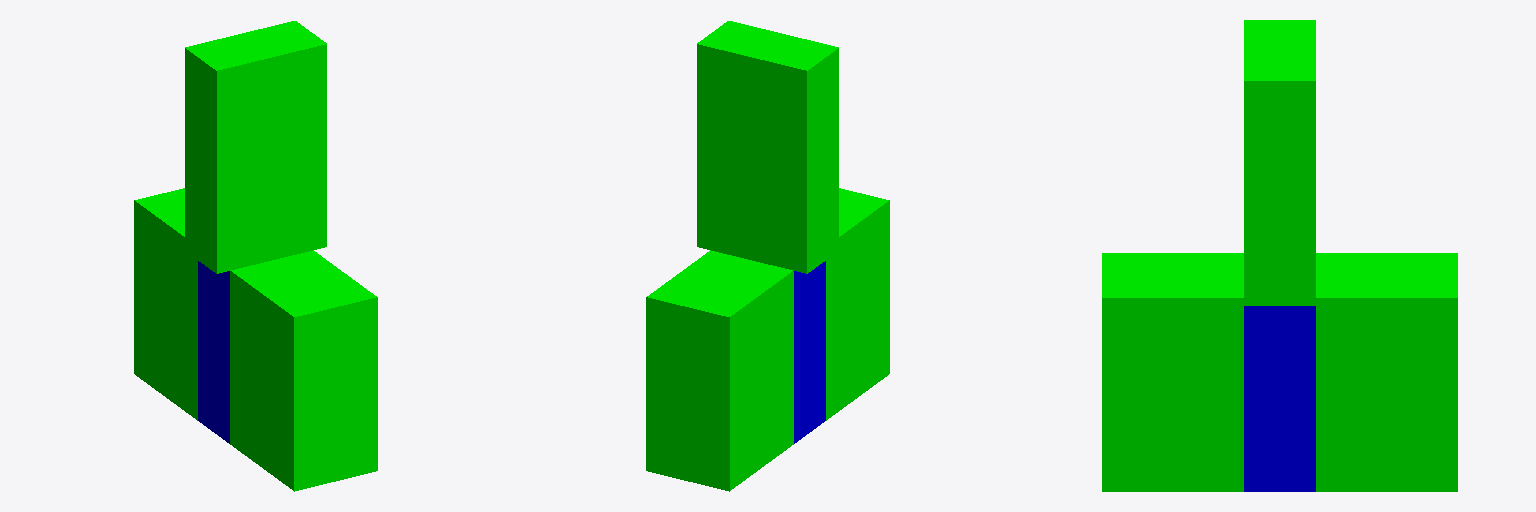
robot.urdf — robot:
<robot name = "robot">
    <link name="root">
        <inertial>
            <origin xyz="0.0 0.0 1.5" rpy="0 0 0"/>
            <mass value="1" />
            <inertia ixx="100" ixy="0" ixz="0" iyy="100" iyz="0" izz="100" />
        </inertial>
        <visual>
            <origin xyz="0.0 0.0 1.5" rpy="0 0 0"/>
            <geometry>
                <box size="0 0 0.0001" />
            </geometry>
            <material name="Green">
                <color rgba="0 1.0 0.0 1.0"/>
            </material>
        </visual>
        <collision>
            <origin xyz="0.0 0.0 1.5" rpy="0 0 0"/>
            <geometry>
                <box size="0 0 0.0001" />
            </geometry>
        </collision>
    </link>
    <joint name="root_000" type="revolute">
       <parent link="root"/>
       <child  link="000"/>
       <origin rpy="0 0 0" xyz="0.0 0.0 1.5" />
     <axis xyz="1 0 0"/>
       <limit effort="0.0" lower="-3.14159" upper="3.14159" velocity="0.0"/>
    </joint>
    <link name="000">
        <inertial>
            <origin xyz="0.2 0.0 0.0" rpy="0 0 0"/>
            <mass value="1" />
            <inertia ixx="100" ixy="0" ixz="0" iyy="100" iyz="0" izz="100" />
        </inertial>
        <visual>
            <origin xyz="0.2 0.0 0.0" rpy="0 0 0"/>
            <geometry>
                <box size="0.4 0.2 0.7" />
            </geometry>
            <material name="Green">
                <color rgba="0 1.0 0.0 1.0"/>
            </material>
        </visual>
        <collision>
            <origin xyz="0.2 0.0 0.0" rpy="0 0 0"/>
            <geometry>
                <box size="0.4 0.2 0.7" />
            </geometry>
        </collision>
    </link>
    <joint name="000_000-100" type="revolute">
       <parent link="000"/>
       <child  link="000-100"/>
       <origin rpy="0 0 0" xyz="0.2 0.0 -0.35" />
     <axis xyz="0 0 1"/>
       <limit effort="0.0" lower="-3.14159" upper="3.14159" velocity="0.0"/>
    </joint>
    <link name="000-100">
        <inertial>
            <origin xyz="0.0 0.0 -0.15" rpy="0 0 0"/>
            <mass value="1" />
            <inertia ixx="100" ixy="0" ixz="0" iyy="100" iyz="0" izz="100" />
        </inertial>
        <visual>
            <origin xyz="0.0 0.0 -0.15" rpy="0 0 0"/>
            <geometry>
                <box size="0.3 0.2 0.3" />
            </geometry>
            <material name="Blue">
                <color rgba="0 0.0 1.0 1.0"/>
            </material>
        </visual>
        <collision>
            <origin xyz="0.0 0.0 -0.15" rpy="0 0 0"/>
            <geometry>
                <box size="0.3 0.2 0.3" />
            </geometry>
        </collision>
    </link>
    <joint name="000-100_000-110" type="revolute">
       <parent link="000-100"/>
       <child  link="000-110"/>
       <origin rpy="0 0 0" xyz="0.0 0.0 -0.3" />
     <axis xyz="0 0 1"/>
       <limit effort="0.0" lower="-3.14159" upper="3.14159" velocity="0.0"/>
    </joint>
    <link name="000-110">
        <inertial>
            <origin xyz="0.0 0.0 -0.15" rpy="0 0 0"/>
            <mass value="1" />
            <inertia ixx="100" ixy="0" ixz="0" iyy="100" iyz="0" izz="100" />
        </inertial>
        <visual>
            <origin xyz="0.0 0.0 -0.15" rpy="0 0 0"/>
            <geometry>
                <box size="0.3 0.2 0.3" />
            </geometry>
            <material name="Blue">
                <color rgba="0 0.0 1.0 1.0"/>
            </material>
        </visual>
        <collision>
            <origin xyz="0.0 0.0 -0.15" rpy="0 0 0"/>
            <geometry>
                <box size="0.3 0.2 0.3" />
            </geometry>
        </collision>
    </link>
    <joint name="000-110_000-110-200" type="revolute">
       <parent link="000-110"/>
       <child  link="000-110-200"/>
       <origin rpy="0 0 0" xyz="0.0 0.1 -0.15" />
     <axis xyz="0 1 0"/>
       <limit effort="0.0" lower="-3.14159" upper="3.14159" velocity="0.0"/>
    </joint>
    <link name="000-110-200">
        <inertial>
            <origin xyz="0.0 0.1 -0.0" rpy="0 0 0"/>
            <mass value="1" />
            <inertia ixx="100" ixy="0" ixz="0" iyy="100" iyz="0" izz="100" />
        </inertial>
        <visual>
            <origin xyz="0.0 0.1 -0.0" rpy="0 0 0"/>
            <geometry>
                <box size="0.3 0.2 0.3" />
            </geometry>
            <material name="Green">
                <color rgba="0 1.0 0.0 1.0"/>
            </material>
        </visual>
        <collision>
            <origin xyz="0.0 0.1 -0.0" rpy="0 0 0"/>
            <geometry>
                <box size="0.3 0.2 0.3" />
            </geometry>
        </collision>
    </link>
    <joint name="000-110-200_000-110-210" type="revolute">
       <parent link="000-110-200"/>
       <child  link="000-110-210"/>
       <origin rpy="0 0 0" xyz="0.0 0.2 -0.0" />
     <axis xyz="0 1 0"/>
       <limit effort="0.0" lower="-3.14159" upper="3.14159" velocity="0.0"/>
    </joint>
    <link name="000-110-210">
        <inertial>
            <origin xyz="0.0 0.1 -0.0" rpy="0 0 0"/>
            <mass value="1" />
            <inertia ixx="100" ixy="0" ixz="0" iyy="100" iyz="0" izz="100" />
        </inertial>
        <visual>
            <origin xyz="0.0 0.1 -0.0" rpy="0 0 0"/>
            <geometry>
                <box size="0.3 0.2 0.3" />
            </geometry>
            <material name="Green">
                <color rgba="0 1.0 0.0 1.0"/>
            </material>
        </visual>
        <collision>
            <origin xyz="0.0 0.1 -0.0" rpy="0 0 0"/>
            <geometry>
                <box size="0.3 0.2 0.3" />
            </geometry>
        </collision>
    </link>
    <joint name="000-110_000-110-201" type="revolute">
       <parent link="000-110"/>
       <child  link="000-110-201"/>
       <origin rpy="0 0 0" xyz="0.0 -0.1 -0.15" />
     <axis xyz="0 1 0"/>
       <limit effort="0.0" lower="-3.14159" upper="3.14159" velocity="0.0"/>
    </joint>
    <link name="000-110-201">
        <inertial>
            <origin xyz="0.0 -0.1 -0.0" rpy="0 0 0"/>
            <mass value="1" />
            <inertia ixx="100" ixy="0" ixz="0" iyy="100" iyz="0" izz="100" />
        </inertial>
        <visual>
            <origin xyz="0.0 -0.1 -0.0" rpy="0 0 0"/>
            <geometry>
                <box size="0.3 0.2 0.3" />
            </geometry>
            <material name="Green">
                <color rgba="0 1.0 0.0 1.0"/>
            </material>
        </visual>
        <collision>
            <origin xyz="0.0 -0.1 -0.0" rpy="0 0 0"/>
            <geometry>
                <box size="0.3 0.2 0.3" />
            </geometry>
        </collision>
    </link>
    <joint name="000-110-201_000-110-211" type="revolute">
       <parent link="000-110-201"/>
       <child  link="000-110-211"/>
       <origin rpy="0 0 0" xyz="0.0 -0.2 -0.0" />
     <axis xyz="0 1 0"/>
       <limit effort="0.0" lower="-3.14159" upper="3.14159" velocity="0.0"/>
    </joint>
    <link name="000-110-211">
        <inertial>
            <origin xyz="0.0 -0.1 -0.0" rpy="0 0 0"/>
            <mass value="1" />
            <inertia ixx="100" ixy="0" ixz="0" iyy="100" iyz="0" izz="100" />
        </inertial>
        <visual>
            <origin xyz="0.0 -0.1 -0.0" rpy="0 0 0"/>
            <geometry>
                <box size="0.3 0.2 0.3" />
            </geometry>
            <material name="Green">
                <color rgba="0 1.0 0.0 1.0"/>
            </material>
        </visual>
        <collision>
            <origin xyz="0.0 -0.1 -0.0" rpy="0 0 0"/>
            <geometry>
                <box size="0.3 0.2 0.3" />
            </geometry>
        </collision>
    </link>
    <joint name="000-100_000-100-200" type="revolute">
       <parent link="000-100"/>
       <child  link="000-100-200"/>
       <origin rpy="0 0 0" xyz="0.0 0.1 -0.15" />
     <axis xyz="0 1 0"/>
       <limit effort="0.0" lower="-3.14159" upper="3.14159" velocity="0.0"/>
    </joint>
    <link name="000-100-200">
        <inertial>
            <origin xyz="0.0 0.1 -0.0" rpy="0 0 0"/>
            <mass value="1" />
            <inertia ixx="100" ixy="0" ixz="0" iyy="100" iyz="0" izz="100" />
        </inertial>
        <visual>
            <origin xyz="0.0 0.1 -0.0" rpy="0 0 0"/>
            <geometry>
                <box size="0.3 0.2 0.3" />
            </geometry>
            <material name="Green">
                <color rgba="0 1.0 0.0 1.0"/>
            </material>
        </visual>
        <collision>
            <origin xyz="0.0 0.1 -0.0" rpy="0 0 0"/>
            <geometry>
                <box size="0.3 0.2 0.3" />
            </geometry>
        </collision>
    </link>
    <joint name="000-100-200_000-100-210" type="revolute">
       <parent link="000-100-200"/>
       <child  link="000-100-210"/>
       <origin rpy="0 0 0" xyz="0.0 0.2 -0.0" />
     <axis xyz="0 1 0"/>
       <limit effort="0.0" lower="-3.14159" upper="3.14159" velocity="0.0"/>
    </joint>
    <link name="000-100-210">
        <inertial>
            <origin xyz="0.0 0.1 -0.0" rpy="0 0 0"/>
            <mass value="1" />
            <inertia ixx="100" ixy="0" ixz="0" iyy="100" iyz="0" izz="100" />
        </inertial>
        <visual>
            <origin xyz="0.0 0.1 -0.0" rpy="0 0 0"/>
            <geometry>
                <box size="0.3 0.2 0.3" />
            </geometry>
            <material name="Green">
                <color rgba="0 1.0 0.0 1.0"/>
            </material>
        </visual>
        <collision>
            <origin xyz="0.0 0.1 -0.0" rpy="0 0 0"/>
            <geometry>
                <box size="0.3 0.2 0.3" />
            </geometry>
        </collision>
    </link>
    <joint name="000-100_000-100-201" type="revolute">
       <parent link="000-100"/>
       <child  link="000-100-201"/>
       <origin rpy="0 0 0" xyz="0.0 -0.1 -0.15" />
     <axis xyz="0 1 0"/>
       <limit effort="0.0" lower="-3.14159" upper="3.14159" velocity="0.0"/>
    </joint>
    <link name="000-100-201">
        <inertial>
            <origin xyz="0.0 -0.1 -0.0" rpy="0 0 0"/>
            <mass value="1" />
            <inertia ixx="100" ixy="0" ixz="0" iyy="100" iyz="0" izz="100" />
        </inertial>
        <visual>
            <origin xyz="0.0 -0.1 -0.0" rpy="0 0 0"/>
            <geometry>
                <box size="0.3 0.2 0.3" />
            </geometry>
            <material name="Green">
                <color rgba="0 1.0 0.0 1.0"/>
            </material>
        </visual>
        <collision>
            <origin xyz="0.0 -0.1 -0.0" rpy="0 0 0"/>
            <geometry>
                <box size="0.3 0.2 0.3" />
            </geometry>
        </collision>
    </link>
    <joint name="000-100-201_000-100-211" type="revolute">
       <parent link="000-100-201"/>
       <child  link="000-100-211"/>
       <origin rpy="0 0 0" xyz="0.0 -0.2 -0.0" />
     <axis xyz="0 1 0"/>
       <limit effort="0.0" lower="-3.14159" upper="3.14159" velocity="0.0"/>
    </joint>
    <link name="000-100-211">
        <inertial>
            <origin xyz="0.0 -0.1 -0.0" rpy="0 0 0"/>
            <mass value="1" />
            <inertia ixx="100" ixy="0" ixz="0" iyy="100" iyz="0" izz="100" />
        </inertial>
        <visual>
            <origin xyz="0.0 -0.1 -0.0" rpy="0 0 0"/>
            <geometry>
                <box size="0.3 0.2 0.3" />
            </geometry>
            <material name="Green">
                <color rgba="0 1.0 0.0 1.0"/>
            </material>
        </visual>
        <collision>
            <origin xyz="0.0 -0.1 -0.0" rpy="0 0 0"/>
            <geometry>
                <box size="0.3 0.2 0.3" />
            </geometry>
        </collision>
    </link>
</robot>

--- Render facts (derived) ---
3 views of the same robot in one strip: view 1: azimuth 30°, elevation 25°; view 2: azimuth 150°, elevation 25°; view 3: azimuth 270°, elevation 25° (orthographic).
Robot: robot — 12 links, 11 joints (11 revolute); root link root; default pose: all joints at 0.
Links seen in each view (by area): view 1: [phone redacted] (×8), 000, 000-110, 000-100; view 2: [phone redacted] (×8), 000, 000-110, 000-100; view 3: [phone redacted] (×8), 000, 000-110, 000-100.
Link boxes in pixels (x1,y1,x2,y2): [phone redacted] (×8): (134, 188, 377, 491); 000: (185, 21, 326, 273); 000-110: (198, 334, 229, 443); 000-100: (198, 261, 229, 356); [phone redacted] (×8): (646, 188, 889, 491); 000: (697, 21, 838, 273); 000-110: (794, 334, 825, 443); 000-100: (794, 261, 825, 356); [phone redacted] (×8): (1102, 253, 1457, 491); 000: (1244, 20, 1315, 305); 000-110: (1244, 395, 1315, 491); 000-100: (1244, 306, 1315, 394).
Bounding box of the posed robot: 0.4 × 1 × 1.3 m (x, y, z).
Geometry: primitives only (box / cylinder / sphere), no mesh files.
